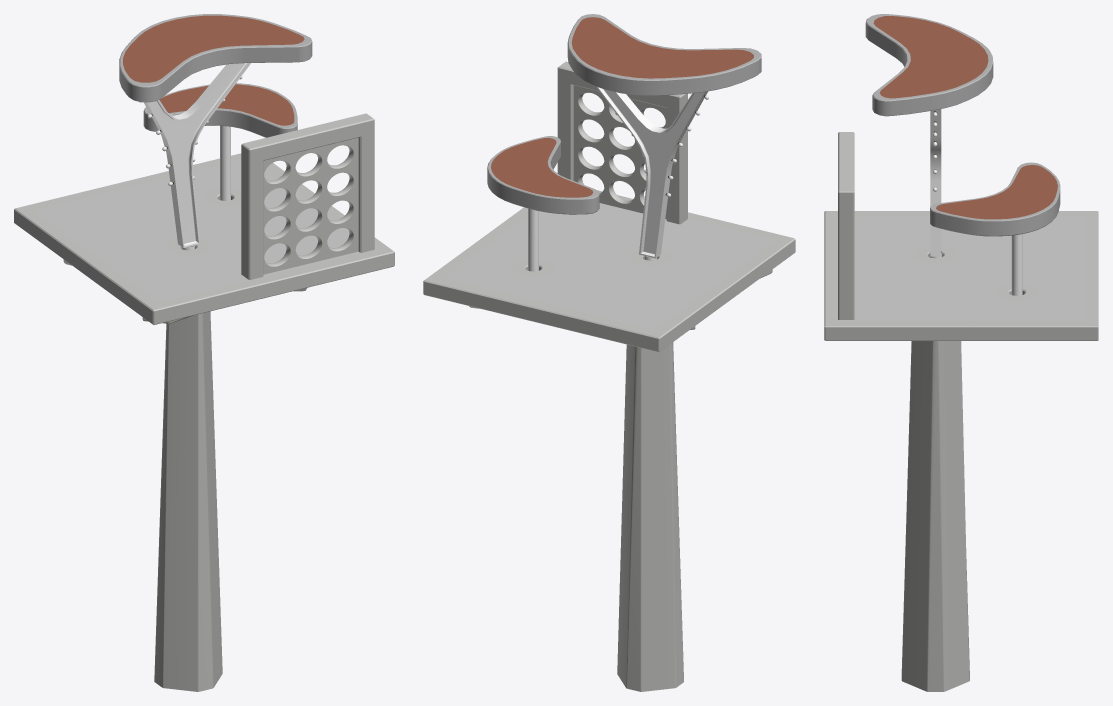
File: PlatformStack3.fbx
The picture shows the model from 3 angles, left to right: view 1: azimuth 30°, elevation 25°; view 2: azimuth 150°, elevation 25°; view 3: azimuth 270°, elevation 25°; orthographic projection. The views are drawn at different scales.
Visible parts, largest first — view 1: PlatformStack3_Floor, PlatformKidneyLarge, BreezeBlockWall, PlatformKidneySmall; view 2: PlatformStack3_Floor, PlatformKidneyLarge, BreezeBlockWall, PlatformKidneySmall; view 3: PlatformStack3_Floor, PlatformKidneyLarge, PlatformKidneySmall, BreezeBlockWall.
Boxes of the visible parts, x1,y1,x2,y2 form: PlatformStack3_Floor: [14, 153, 394, 691]; PlatformKidneyLarge: [119, 14, 312, 250]; BreezeBlockWall: [241, 113, 374, 279]; PlatformKidneySmall: [143, 83, 297, 200]; PlatformStack3_Floor: [423, 190, 795, 691]; PlatformKidneyLarge: [567, 14, 761, 260]; BreezeBlockWall: [557, 61, 687, 224]; PlatformKidneySmall: [487, 136, 599, 271]; PlatformStack3_Floor: [824, 211, 1098, 691]; PlatformKidneyLarge: [865, 14, 993, 258]; PlatformKidneySmall: [930, 162, 1060, 295]; BreezeBlockWall: [838, 132, 854, 319].
Size of what is drawn, in the model's own units: 500 by 1252 by 500.
